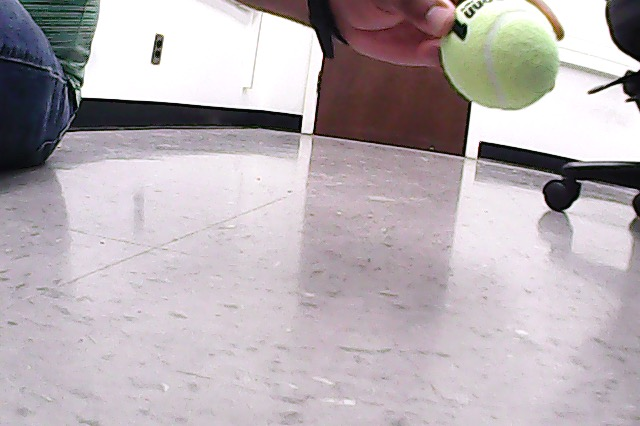ball: (442, 1, 559, 112)
